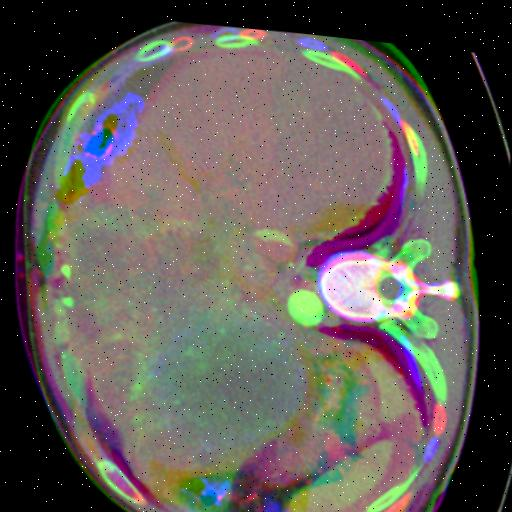Tumor: (68, 206, 217, 343)
